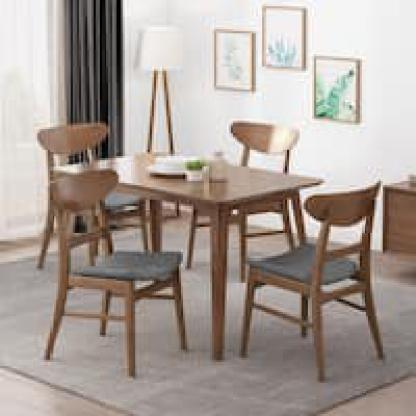chair: (44, 165, 195, 379), (239, 183, 398, 377), (183, 115, 298, 274), (38, 118, 148, 268)
light: (133, 25, 191, 155)
table: (41, 150, 345, 366)
